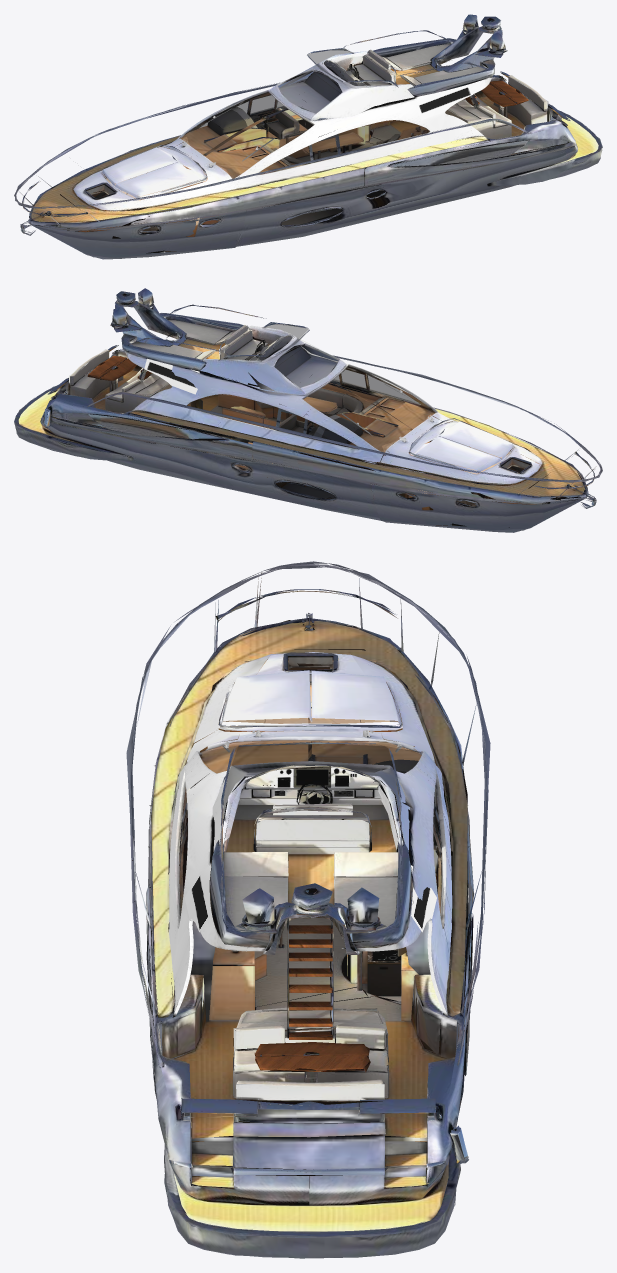
File: user_yacht_neoland.glb
3 renders of one model, top to bottom at view 1: azimuth 30°, elevation 25°; view 2: azimuth 150°, elevation 25°; view 3: azimuth 270°, elevation 25°, orthographic. The views are drawn at different scales.
Visible parts, largest first — view 1: user_yacht_neoland; view 2: user_yacht_neoland; view 3: user_yacht_neoland.
Part boxes in pixels (<box>): user_yacht_neoland: <box>14,14,602,259</box>; user_yacht_neoland: <box>14,288,602,532</box>; user_yacht_neoland: <box>126,561,490,1258</box>.
Bounding box in the file's own units: 11.5 × 2.95 × 3.2.
28 materials, 19 textured.
